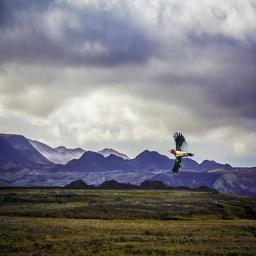Woodpecker: (168, 132, 195, 174)
